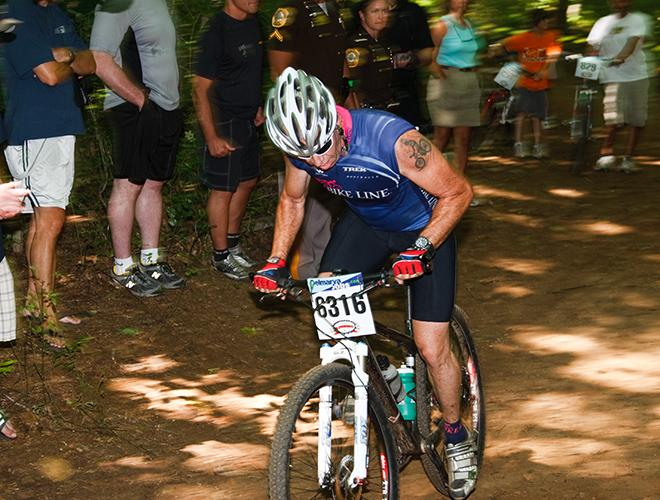person: (249, 66, 482, 500)
